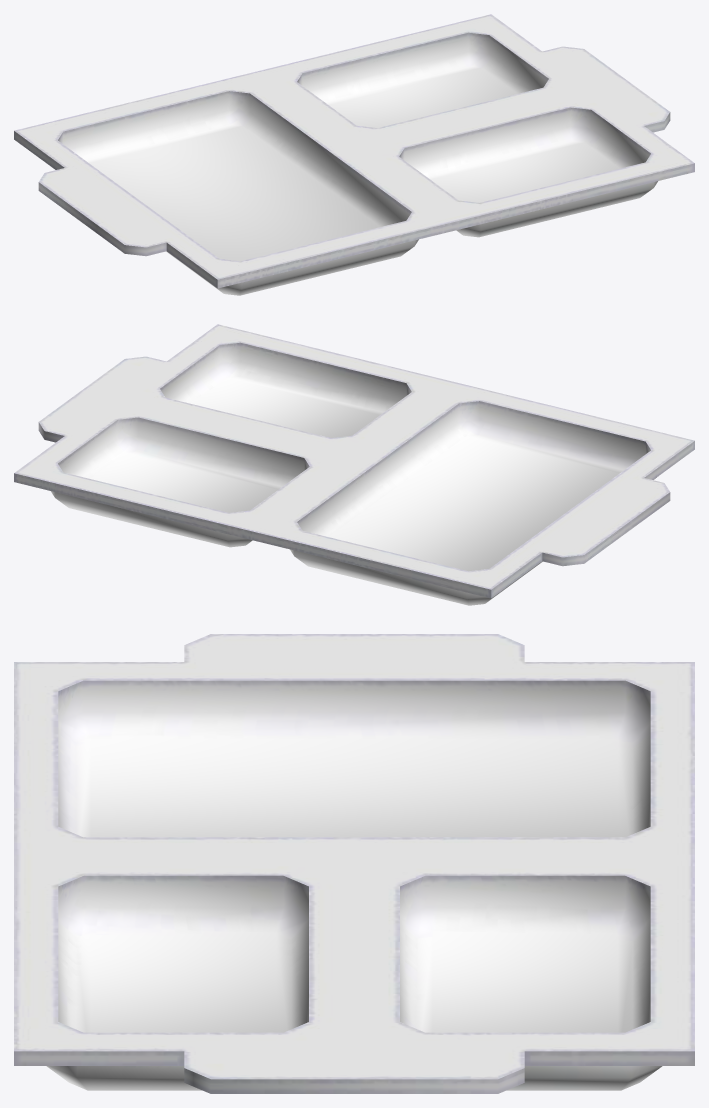
Rendered from Tool_Tray.glb.
3 views of the same model, one above another, from view 1: azimuth 30°, elevation 25°; view 2: azimuth 150°, elevation 25°; view 3: azimuth 270°, elevation 25° (orthographic). The views are drawn at different scales.
Parts seen in each view (by area): view 1: Tool_Tray; view 2: Tool_Tray; view 3: Tool_Tray.
Boxes of the visible parts, x1=… form: Tool_Tray: x1=14, y1=14, x2=694, y2=295; Tool_Tray: x1=14, y1=324, x2=694, y2=605; Tool_Tray: x1=14, y1=634, x2=694, y2=1093.
Bounding box in the file's own units: 0.6466 × 0.0424 × 0.4181.
Materials: 1 (1 with a texture image).
